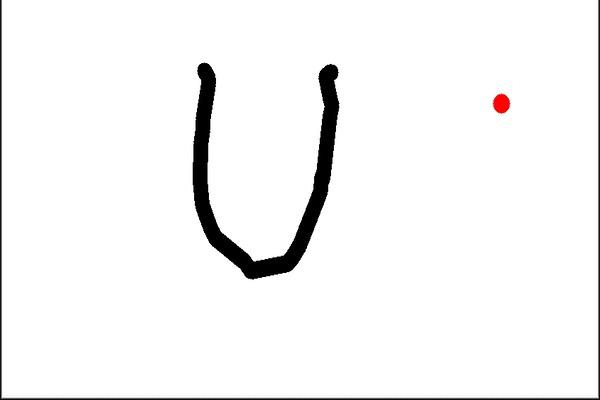U: (184, 45, 340, 287)
